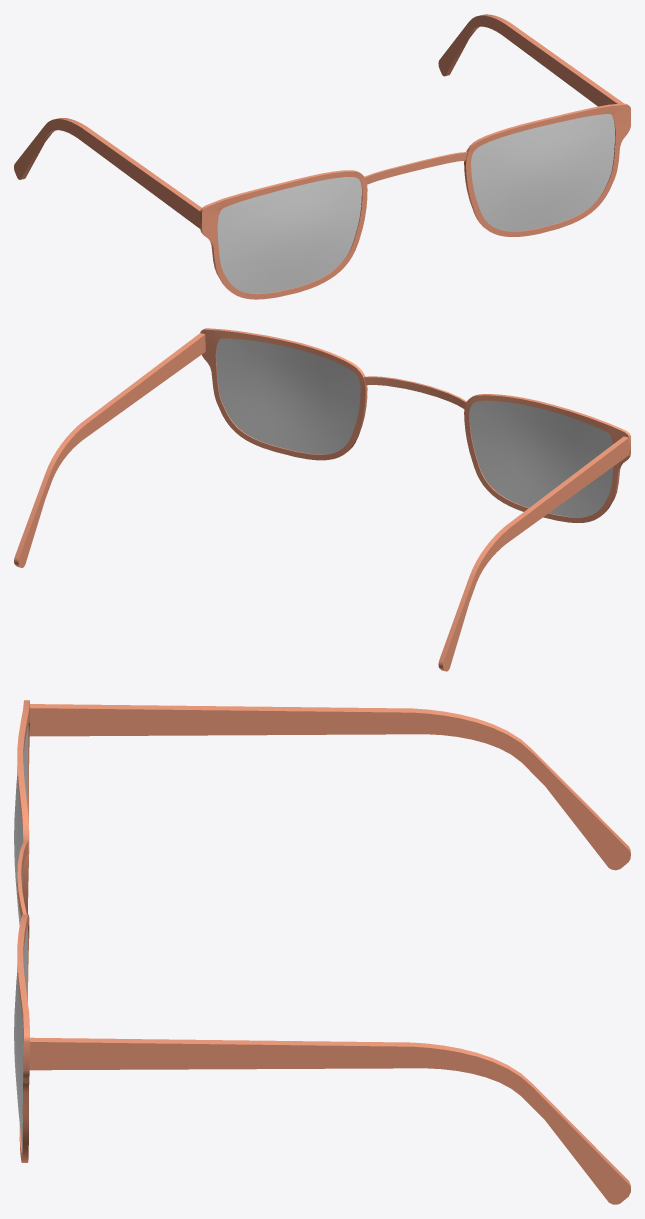
The model's file is PRADA Glasses Wide Optimized.fbx.
The picture shows the model from 3 angles, top to bottom: view 1: azimuth 30°, elevation 25°; view 2: azimuth 150°, elevation 25°; view 3: azimuth 270°, elevation 25°; orthographic projection. The views are drawn at different scales.
Parts seen in each view (by area): view 1: PRADA Glasses Wide Optimized; view 2: PRADA Glasses Wide Optimized; view 3: PRADA Glasses Wide Optimized.
Part boxes in pixels (x1,y1,x2,y2): PRADA Glasses Wide Optimized: [14, 14, 630, 299]; PRADA Glasses Wide Optimized: [14, 328, 630, 671]; PRADA Glasses Wide Optimized: [14, 700, 630, 1204].
Bounding box in the file's own units: 0.1874 × 0.0471 × 0.1445.
